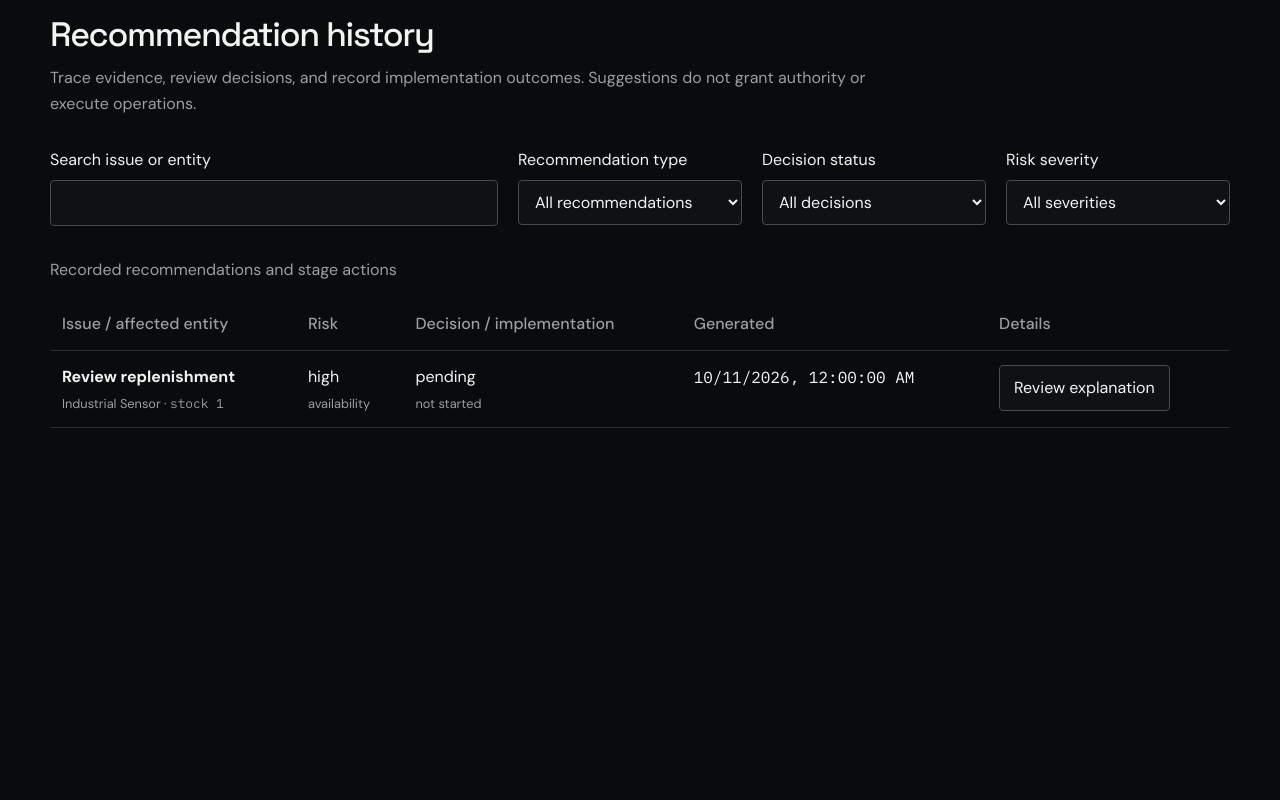
Test: labels absent historical inputs and explains uncalibrated confidence
Click the button with aria-label "Review stock recommendation 1" at [1084, 388], box [999, 365, 1170, 411]
(page scrolled)
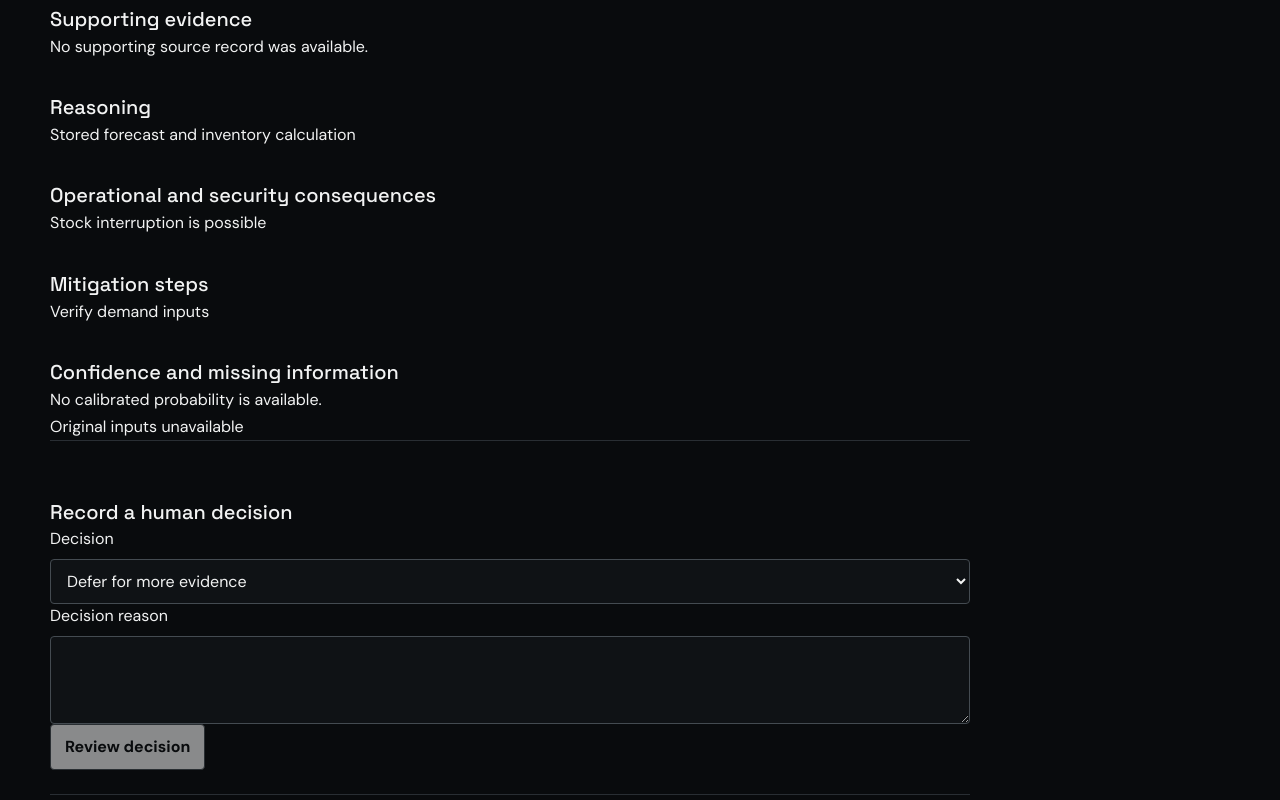
Now the text "No calibrated probability is available." is shown, box [50, 389, 322, 410]
